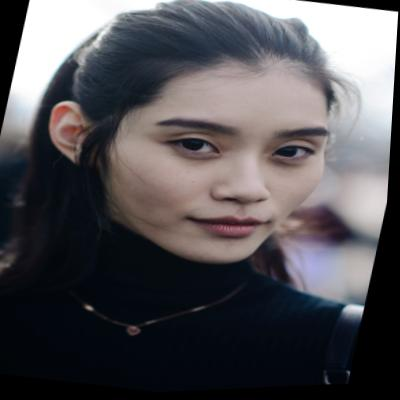netural: (99, 43, 346, 287)
